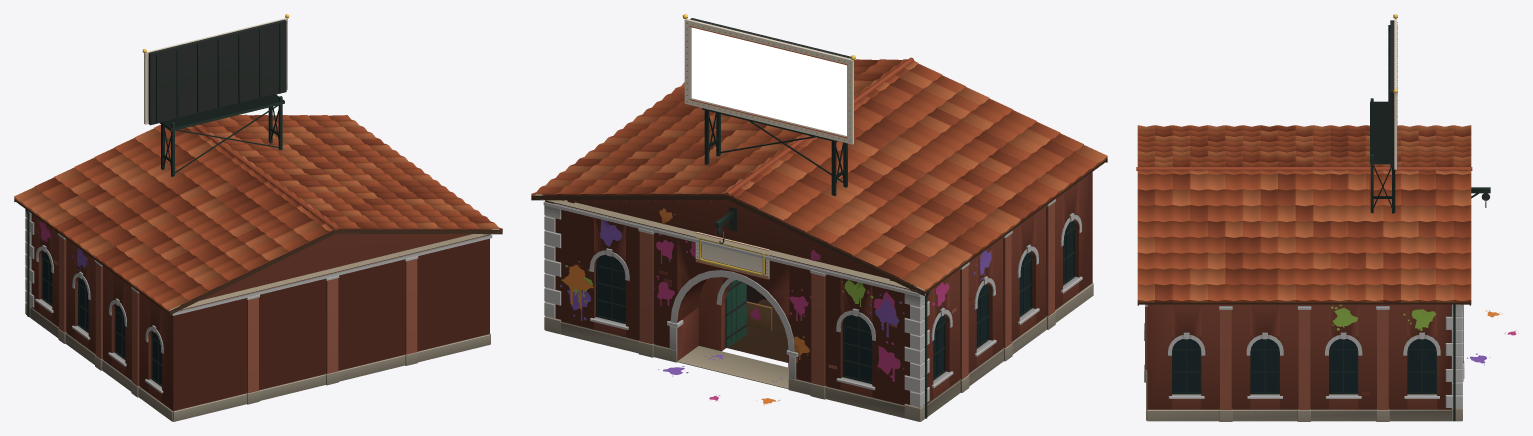
File: pav_paintball.glb
3 renders of one model, left to right at view 1: azimuth 30°, elevation 25°; view 2: azimuth 150°, elevation 25°; view 3: azimuth 270°, elevation 25°, orthographic. The views are drawn at different scales.
Visible parts, largest first — view 1: static_paintball; view 2: static_paintball, live_screen; view 3: static_paintball.
Boxes of the visible parts, bbox=[...] form: static_paintball: bbox=[14, 14, 502, 421]; static_paintball: bbox=[531, 14, 1107, 421]; live_screen: bbox=[691, 27, 846, 135]; static_paintball: bbox=[1136, 14, 1518, 421].
Size of the model in its own units: 21.07 by 16.11 by 19.47.
